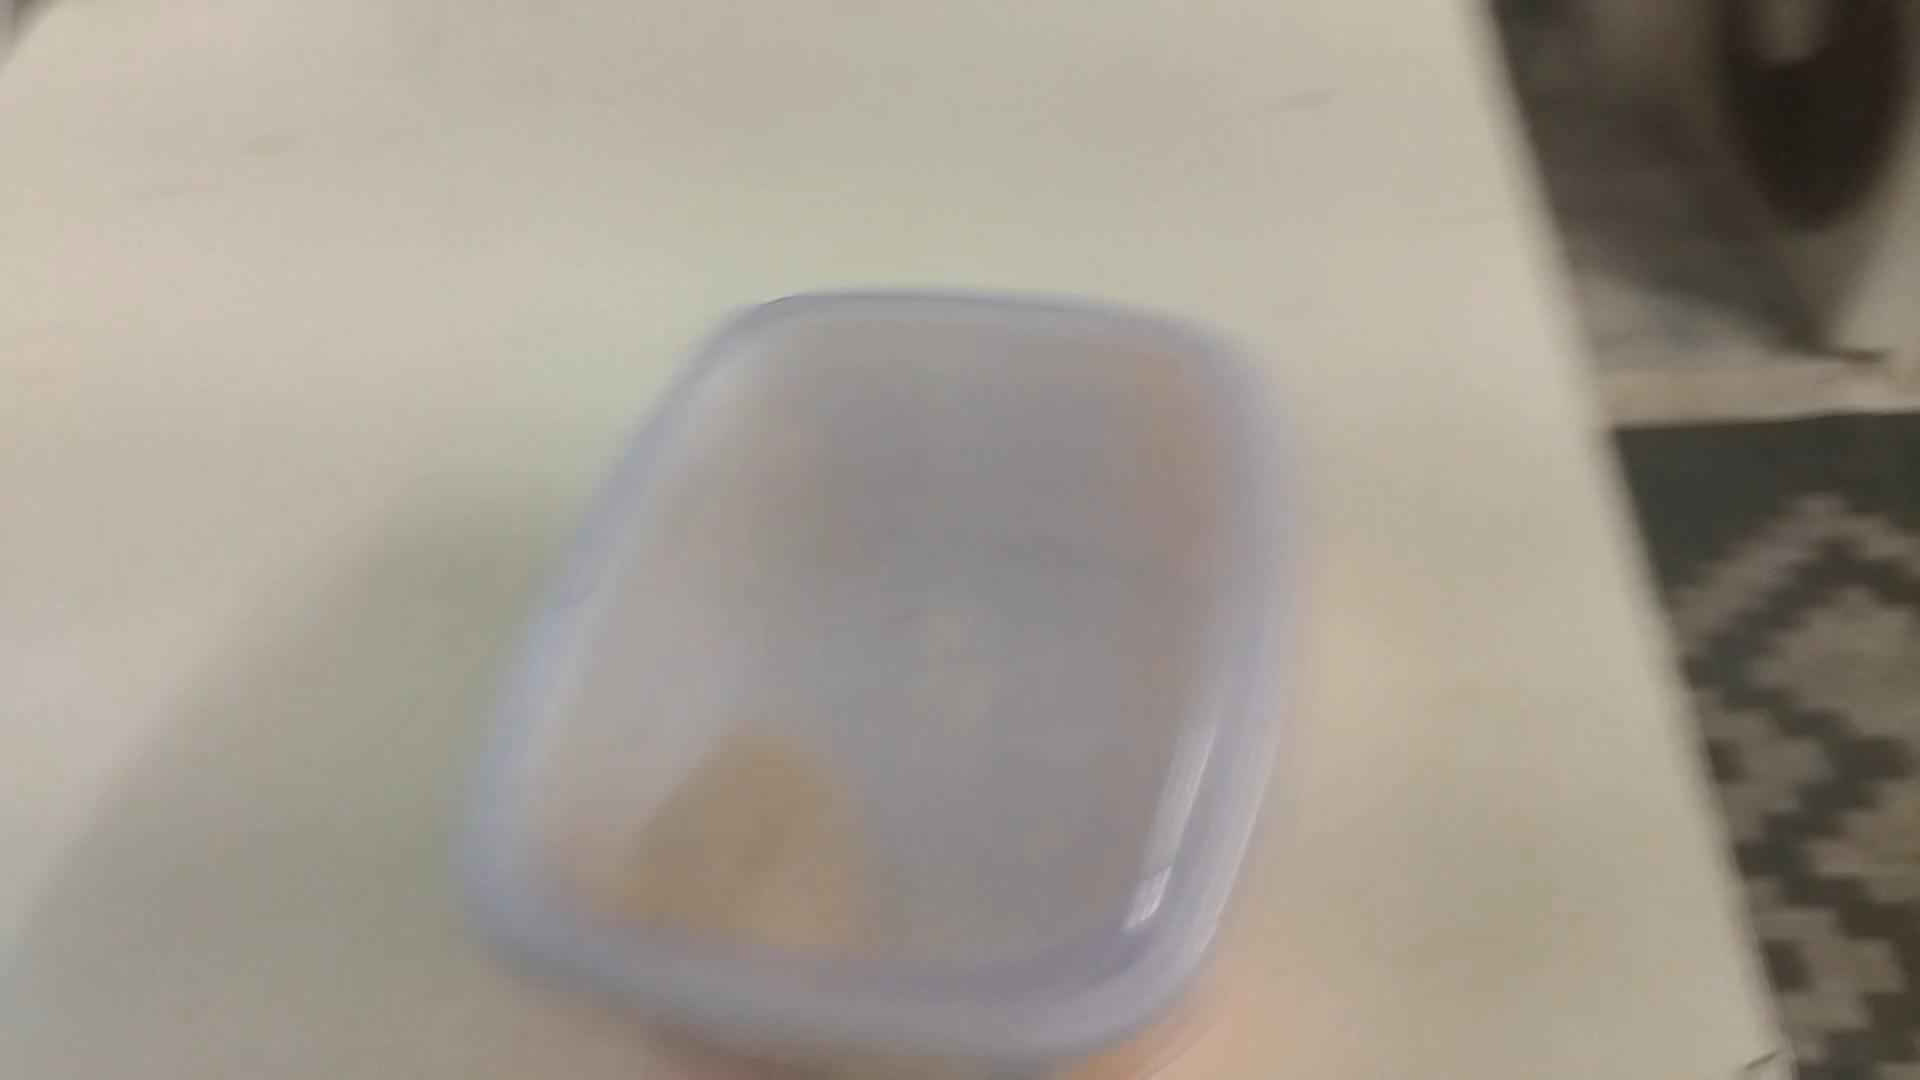butter: (458, 287, 1288, 1080)
